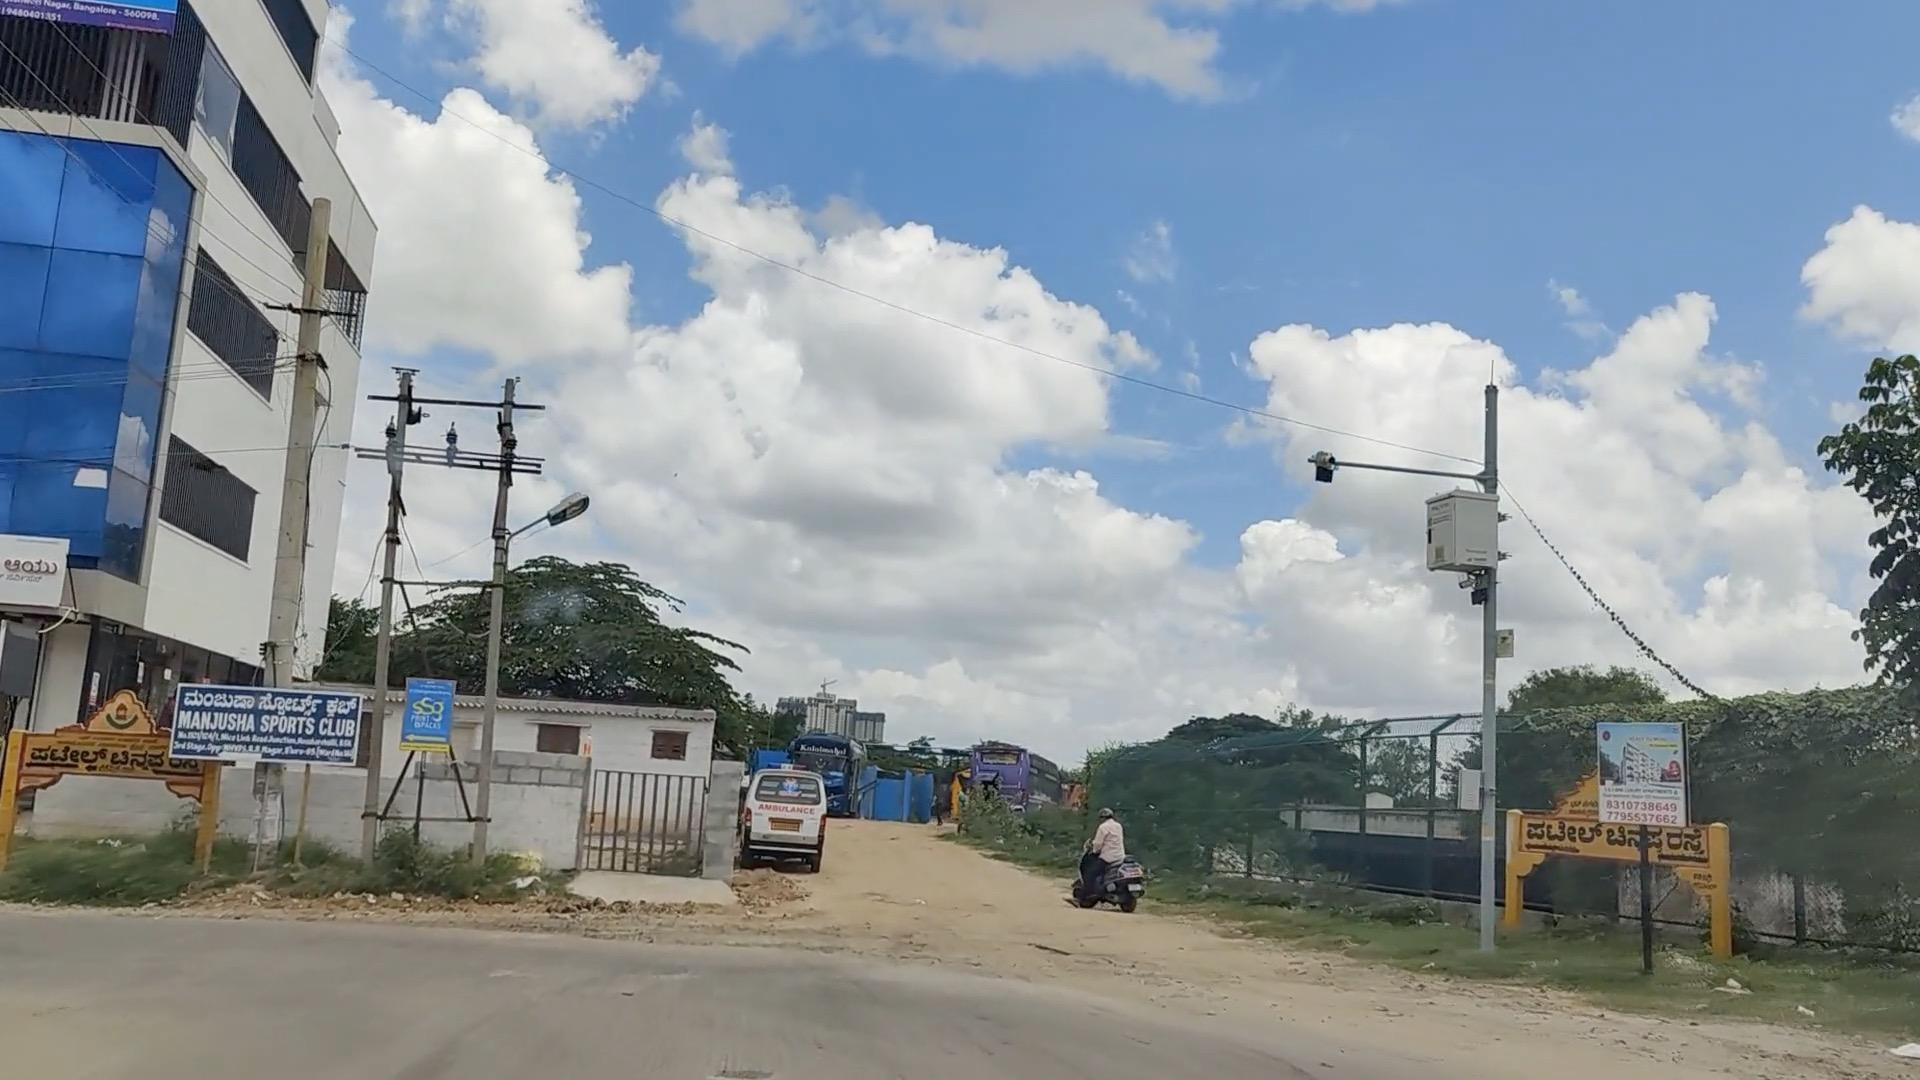LMV: (1080, 800, 1133, 907), (762, 770, 820, 857)
